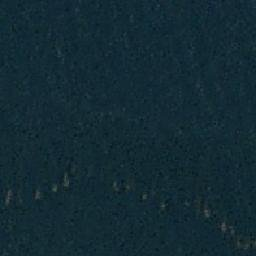debris: (235, 237, 253, 248), (4, 190, 14, 204), (219, 220, 227, 234), (139, 192, 149, 202), (63, 174, 71, 186), (50, 183, 59, 193), (112, 180, 120, 189), (203, 205, 209, 217), (34, 188, 40, 198), (124, 182, 132, 188), (230, 226, 235, 234), (161, 201, 166, 207), (183, 200, 189, 205)
